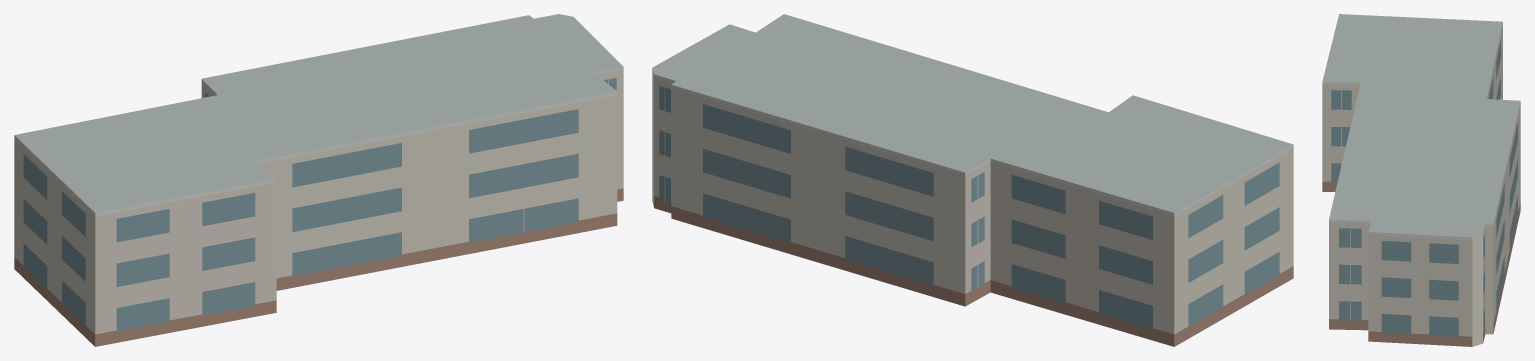
Rendered from survey-upis-32634505.glb.
The picture shows the model from 3 angles, left to right: view 1: azimuth 30°, elevation 25°; view 2: azimuth 150°, elevation 25°; view 3: azimuth 270°, elevation 25°; orthographic projection. The views are drawn at different scales.
Visible parts, largest first — view 1: survey-upis-32634505.tmp; view 2: survey-upis-32634505.tmp; view 3: survey-upis-32634505.tmp.
Part boxes in pixels (x1=…): survey-upis-32634505.tmp: x1=14, y1=14, x2=623, y2=346; survey-upis-32634505.tmp: x1=652, y1=14, x2=1293, y2=346; survey-upis-32634505.tmp: x1=1322, y1=14, x2=1520, y2=346.
Size of the model in its own units: 40.03 by 9.15 by 15.04.
